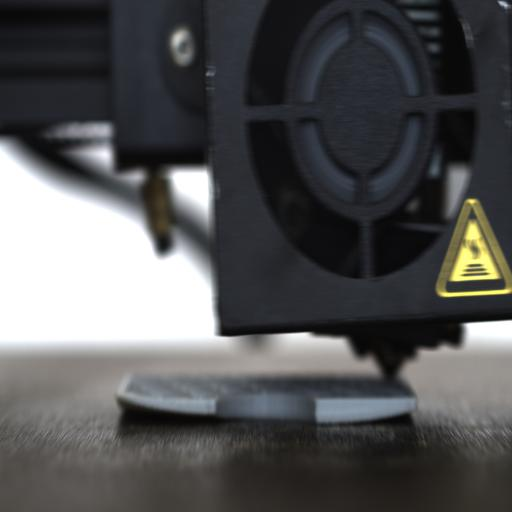warp: (112, 391, 188, 425)
